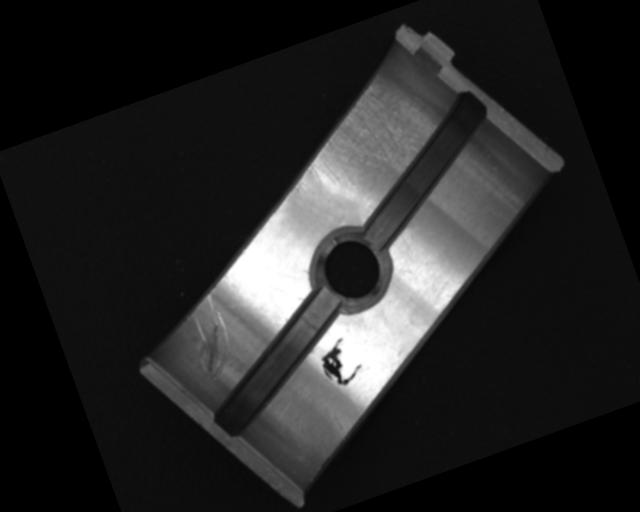blot: (311, 327, 367, 392)
gap: (330, 87, 518, 253), (185, 284, 370, 440)
hole: (298, 217, 403, 322)
nick: (173, 289, 241, 385)
scratch: (268, 60, 450, 208)
